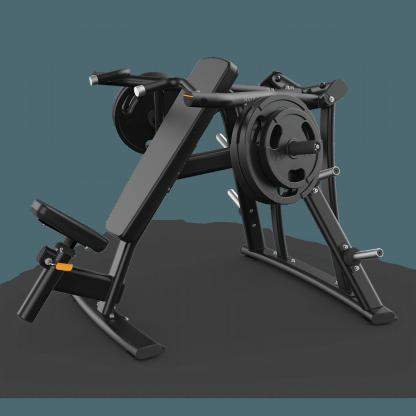shoulder press machine: (14, 41, 404, 366)
